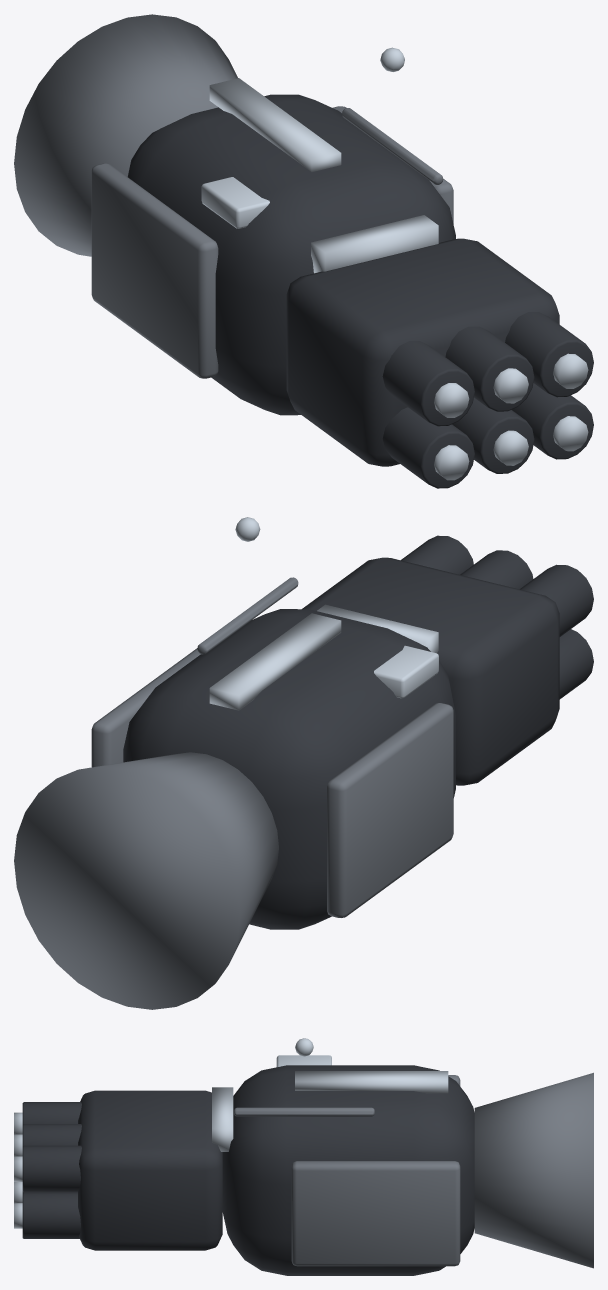
The model's file is weapon_drone_swarm.glb.
The picture shows the model from 3 angles, top to bottom: view 1: azimuth 30°, elevation 25°; view 2: azimuth 150°, elevation 25°; view 3: azimuth 270°, elevation 25°; orthographic projection. The views are drawn at different scales.
Visible parts, largest first — view 1: weapon_drone_swarm; view 2: weapon_drone_swarm; view 3: weapon_drone_swarm.
Boxes of the visible parts, x1,y1,x2,y2 form: weapon_drone_swarm: [14, 14, 593, 488]; weapon_drone_swarm: [14, 517, 593, 1009]; weapon_drone_swarm: [14, 1038, 593, 1275].
Size of the model in its own units: 0.5184 by 0.64 by 1.36.
